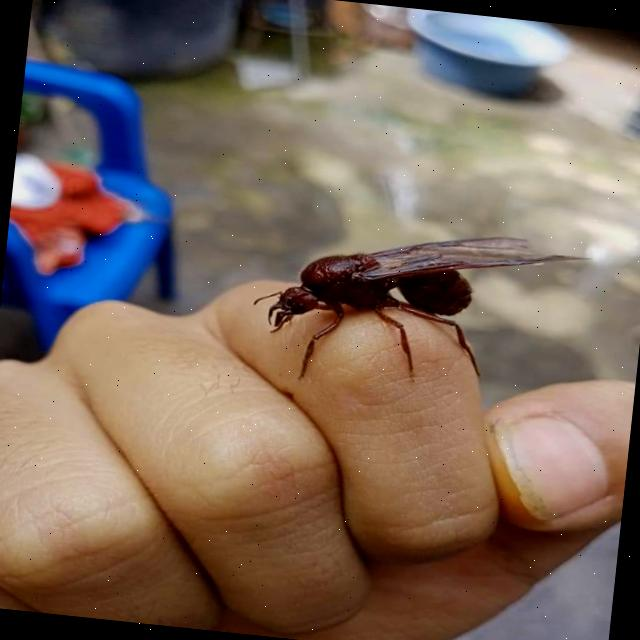Alive-Female-Alate: (245, 210, 594, 411)
